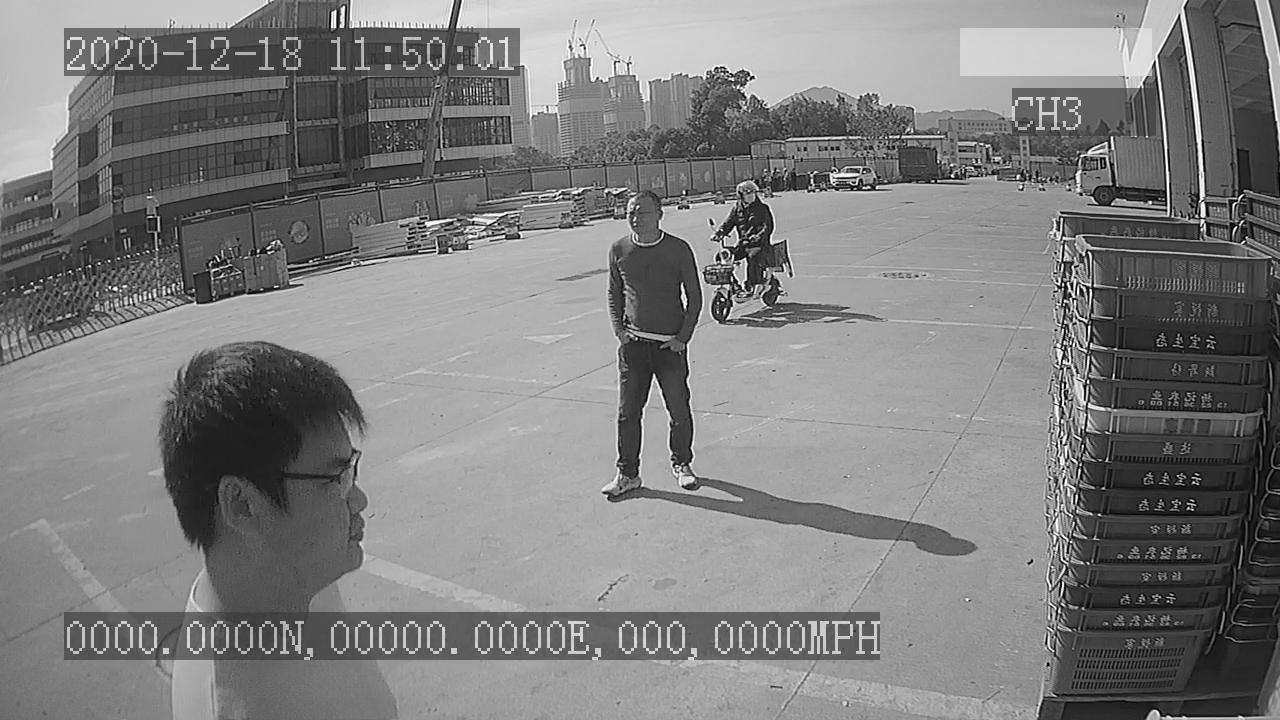person: (597, 192, 704, 502)
